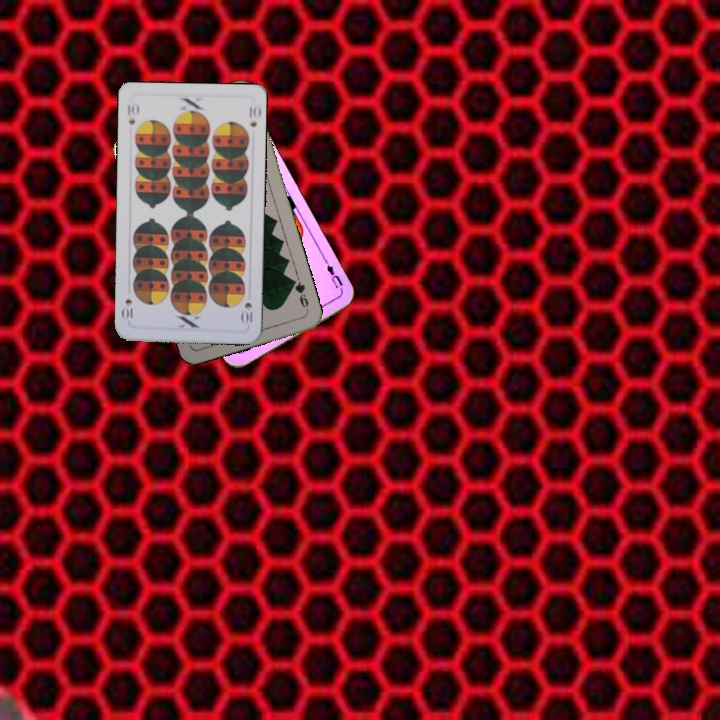EU: (321, 257, 346, 294)
G9: (288, 276, 311, 314)
S10: (238, 298, 255, 327), (124, 100, 141, 127)
